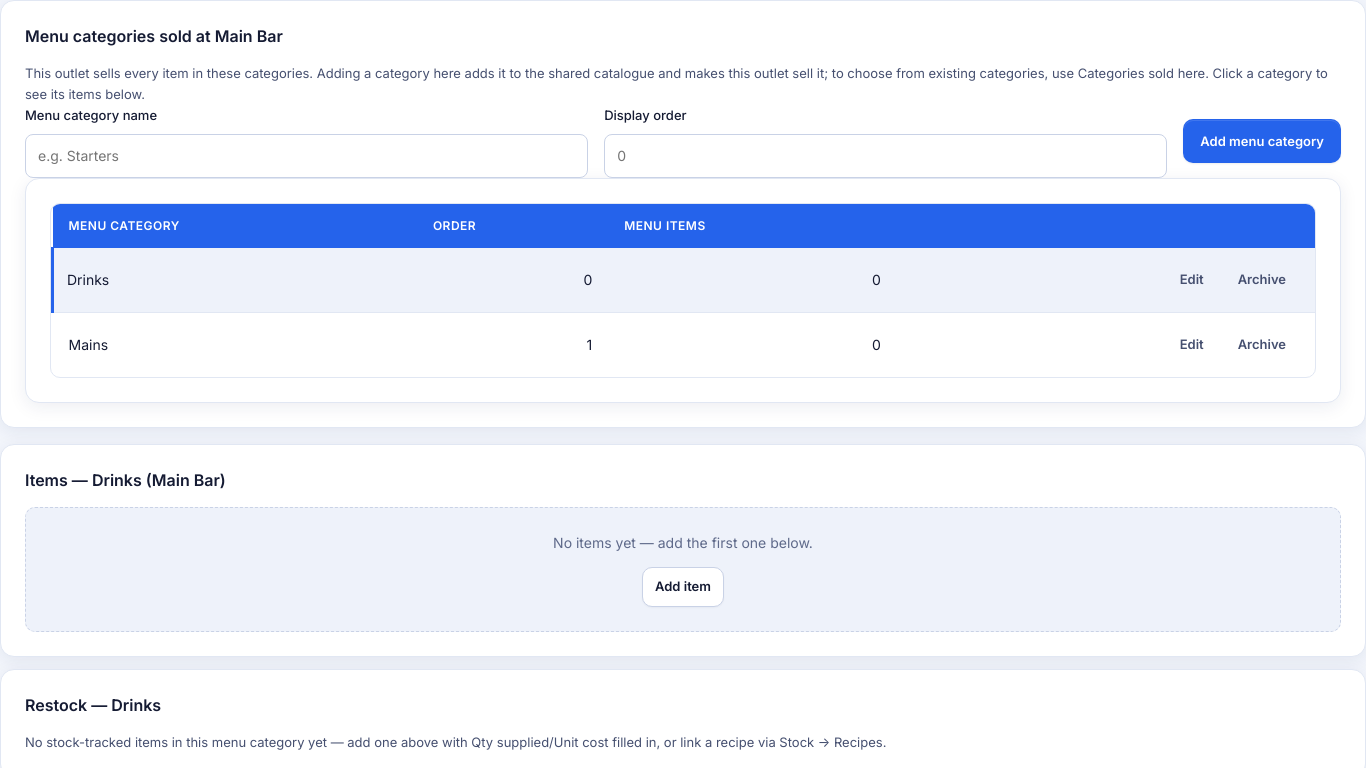
Test: <MenuItemsTab> › single-category selection › clicking a different category swaps which section shows
Check: the heading "Items — Drinks (Main Bar)" is shown, box 25,470 -> 226,490
Click the button "Mains" at point(88, 345), box 68,334 -> 108,356
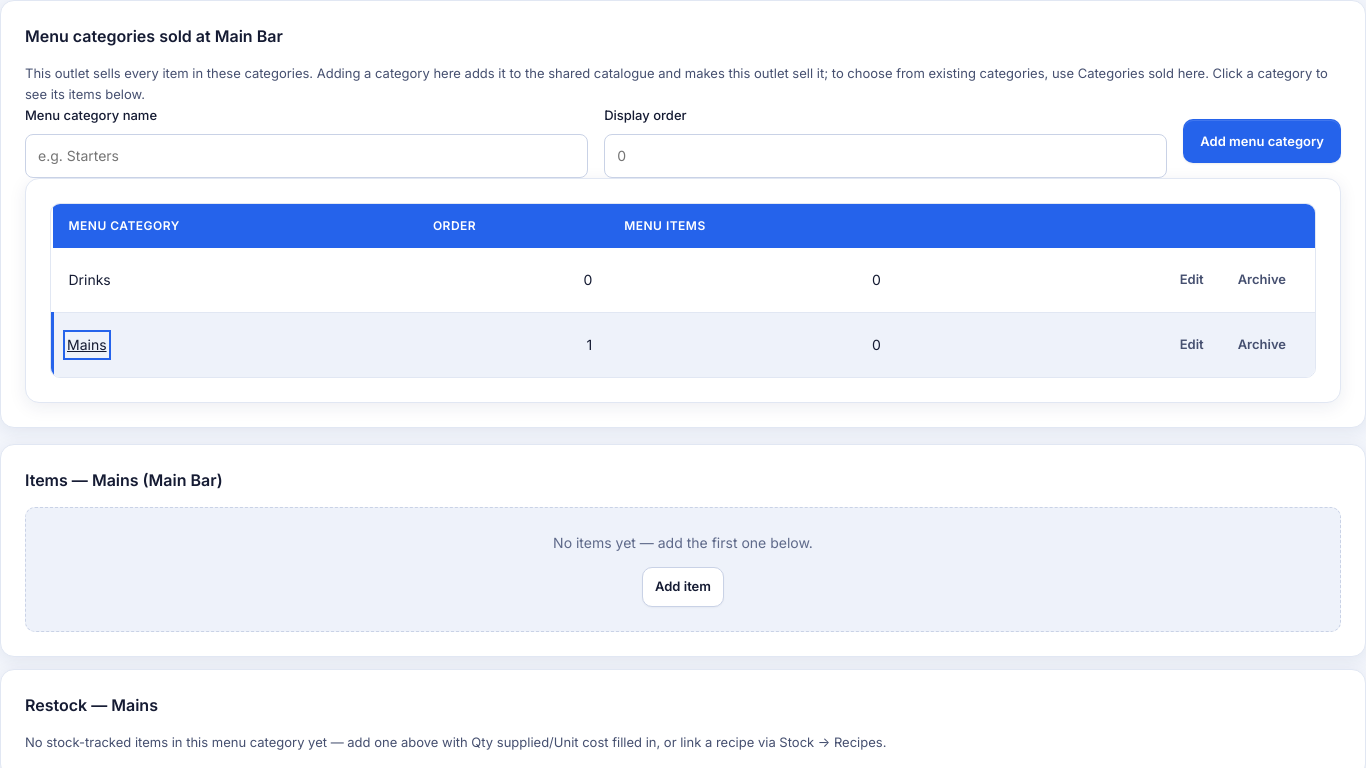
Check: the heading "Items — Mains (Main Bar)" is shown, box 25,470 -> 223,490
Check: the heading "Items — Drinks" is gone
